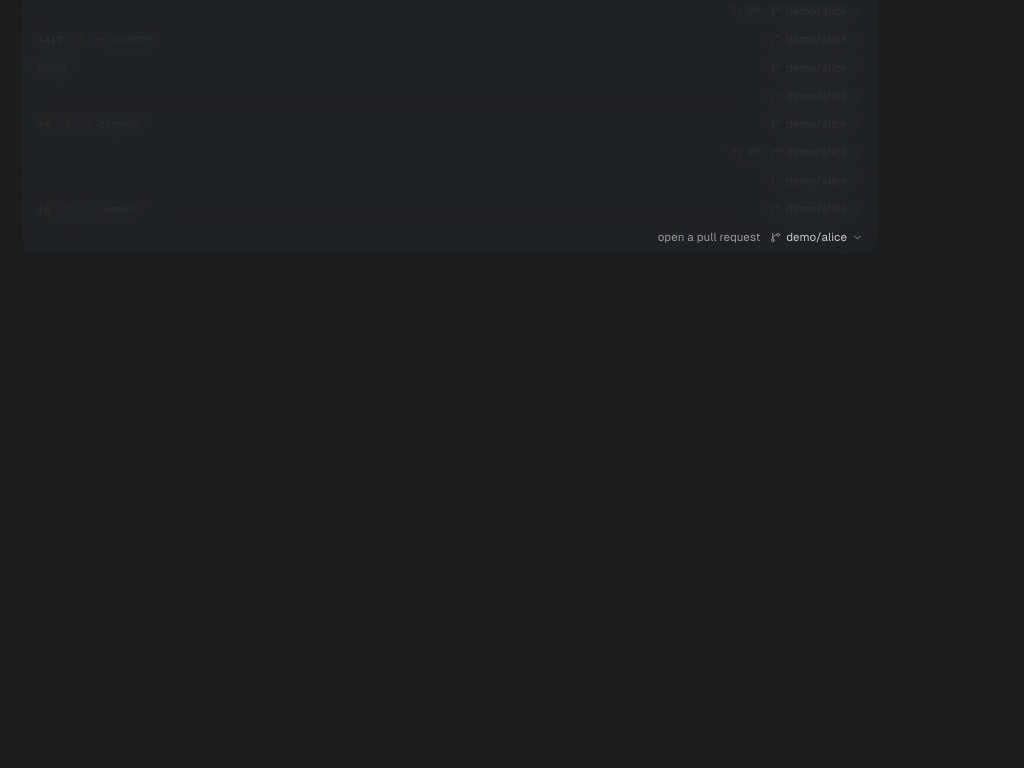
it: the branch menu › says git’s own refusal, and stays open on the row that raised it
Click the button with class "wsbranchpick" showing "demo/alice" at (817, 238), box left=761, top=226, right=872, bottom=249
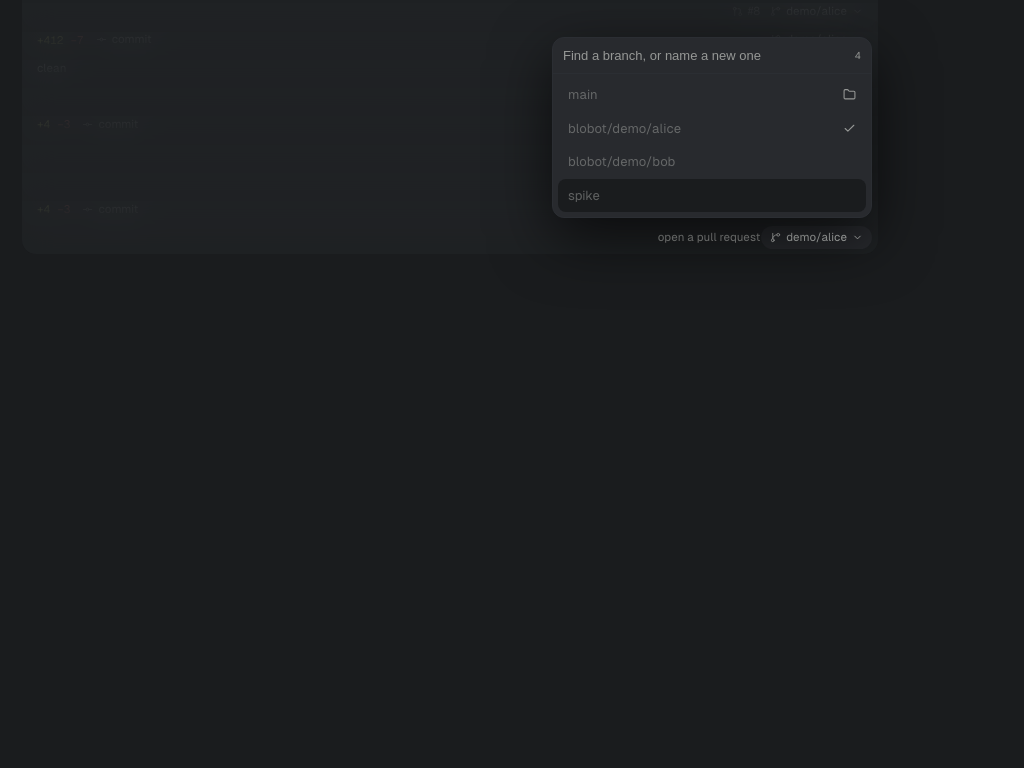
Click the option with class "branchitem" showing "spike" at (584, 195), box left=558, top=178, right=866, bottom=212
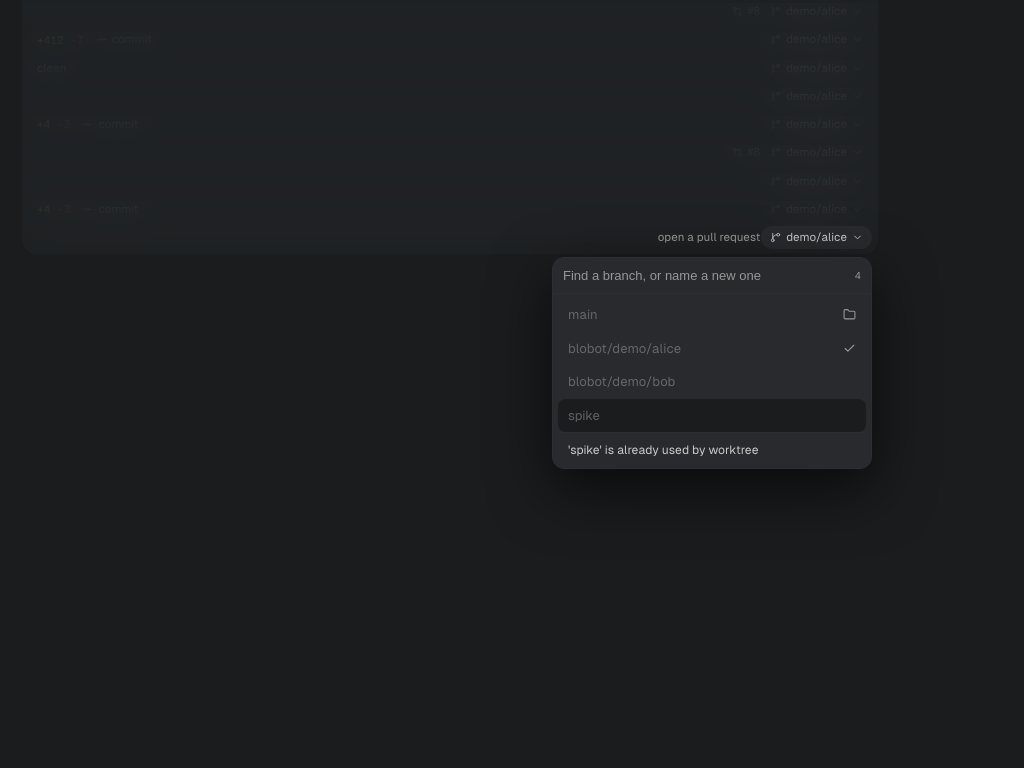
expect the option with class "branchitem" showing "spike" is shown: met, box left=558, top=398, right=866, bottom=432
expect the text with class "branchfailed" shows "already used by worktree": met, box left=568, top=443, right=758, bottom=457
